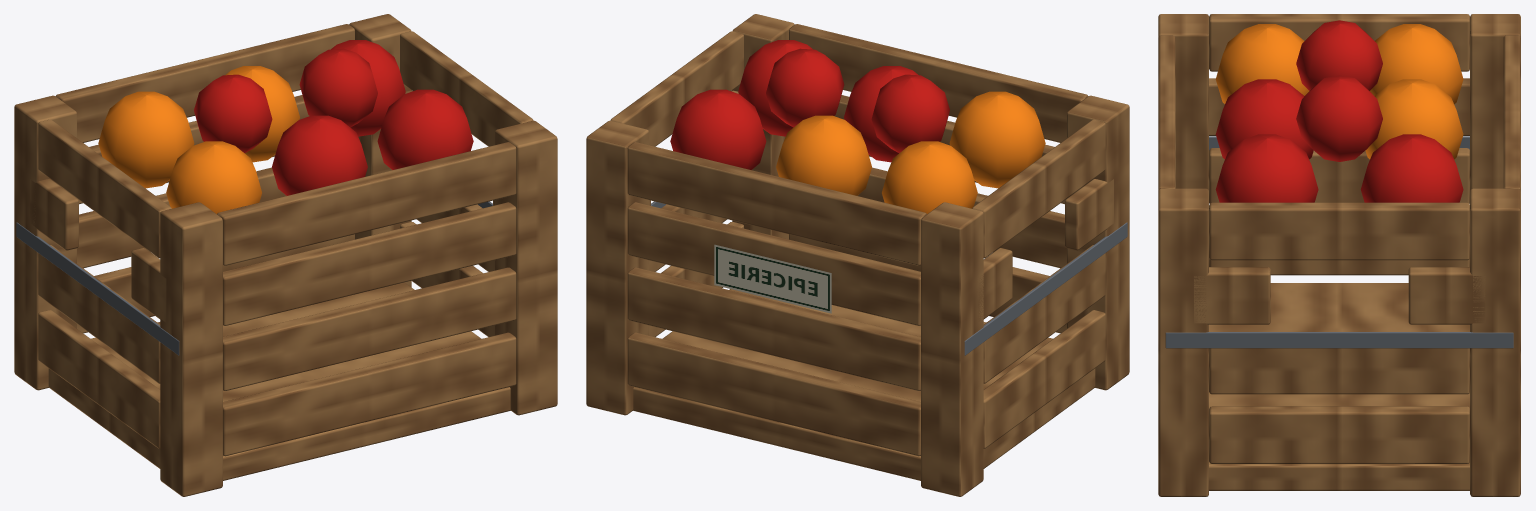
Rendered from ShopCrate.obj.
3 views of the same model, side by side, from view 1: azimuth 30°, elevation 25°; view 2: azimuth 150°, elevation 25°; view 3: azimuth 270°, elevation 25° (orthographic). The views are drawn at different scales.
Size of the model in its own units: 0.321 by 0.265 by 0.2505.
